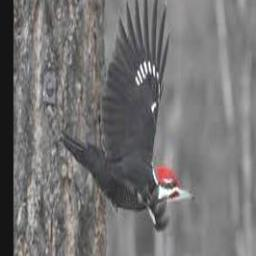Woodpecker: (59, 0, 195, 230)
